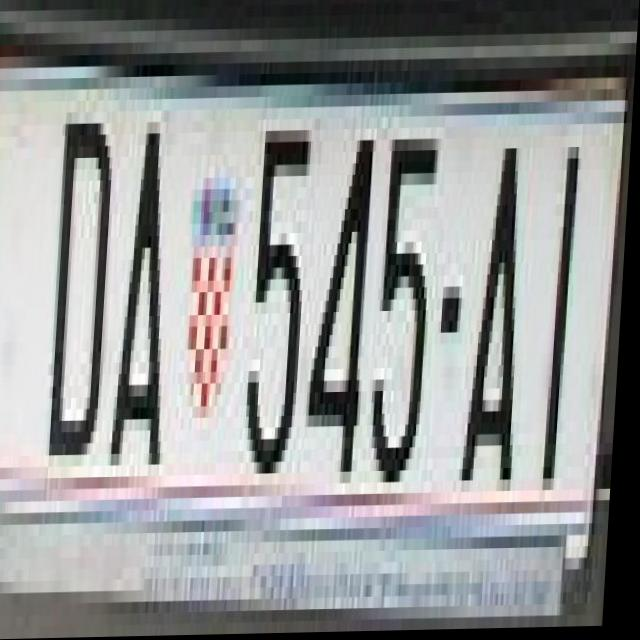4: (306, 96, 380, 474)
5: (370, 95, 443, 508), (243, 97, 318, 475)
A: (457, 116, 539, 495), (114, 111, 187, 467)
D: (52, 112, 122, 456)
